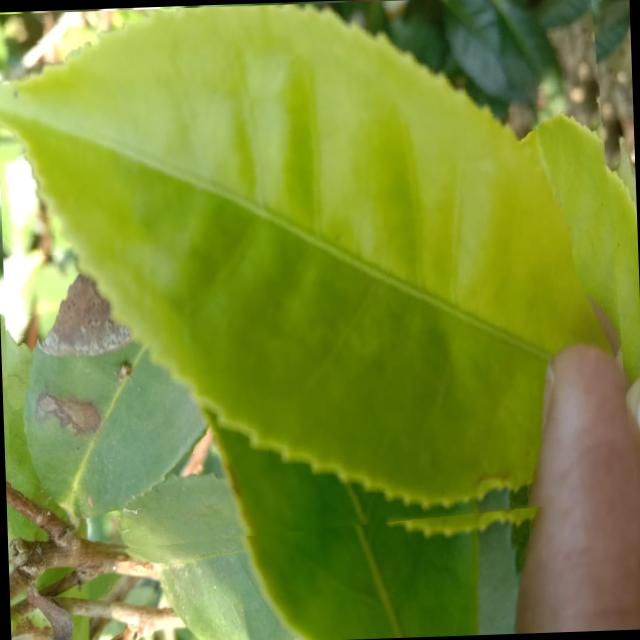Category B(2-4 days): (0, 0, 636, 558)
